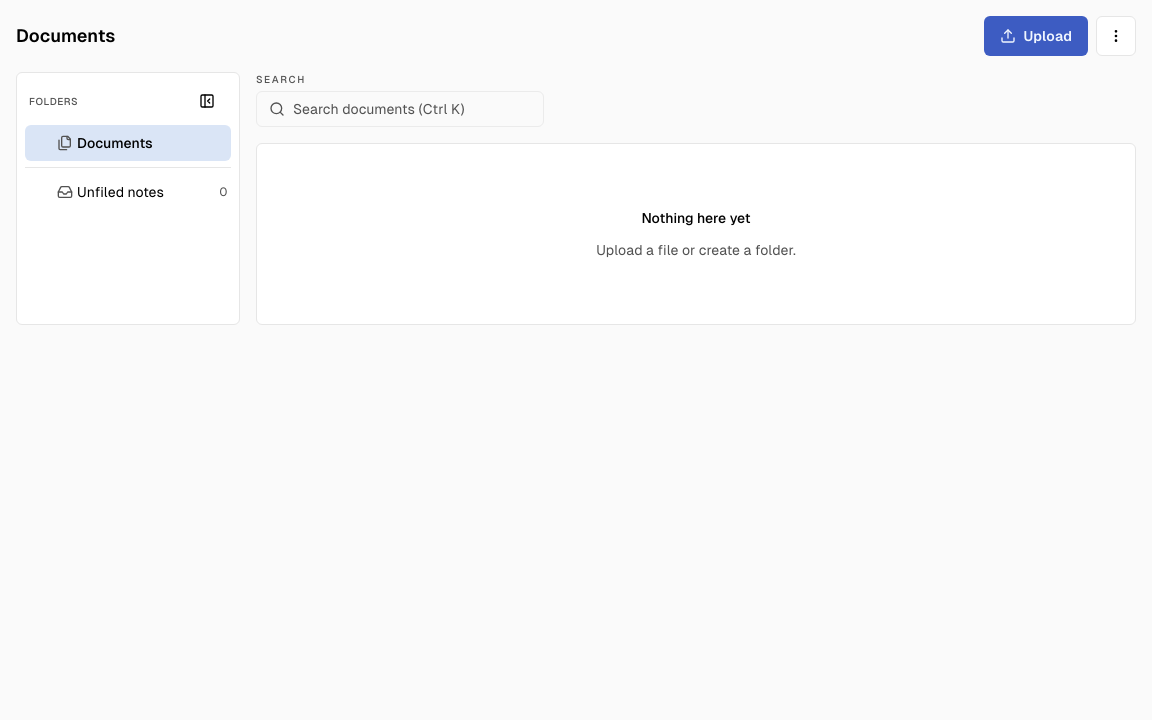
Test: DocumentsPanel › search overlay › shows "Documents" as the folder path for a root-level search hit
Click the field labelled "Search" at (414, 109), box [285, 89, 543, 129]
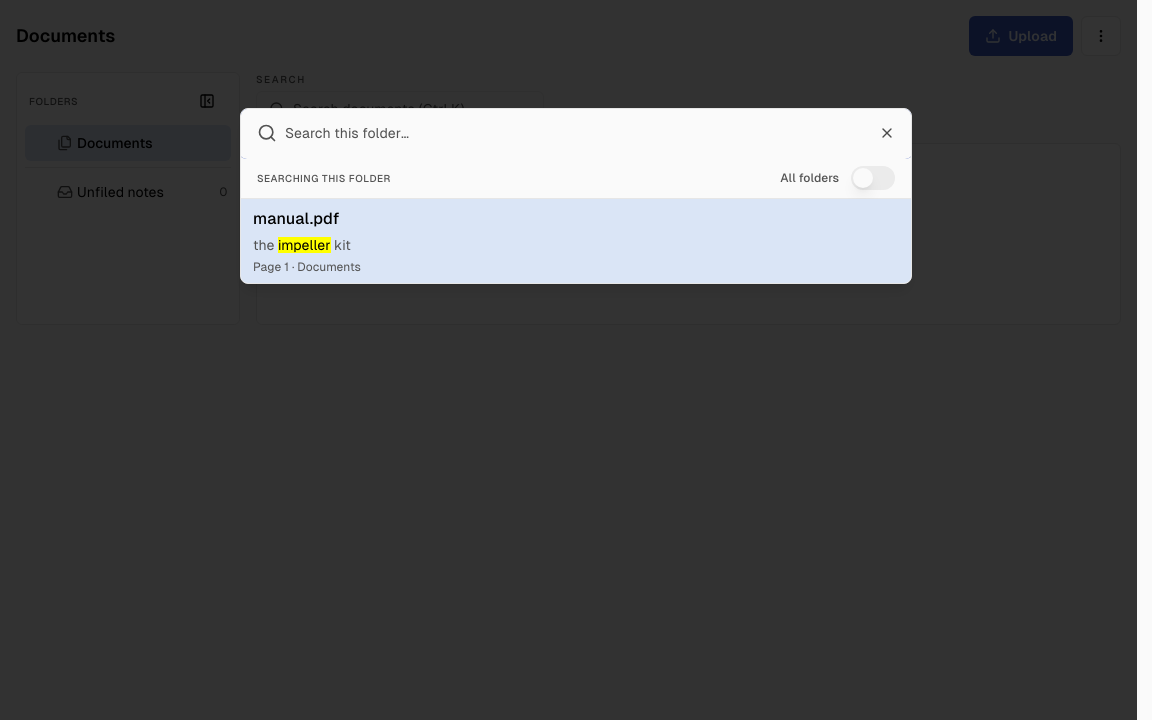
Check: the text "Page 1 · Documents" is shown, box [253, 259, 361, 275]
